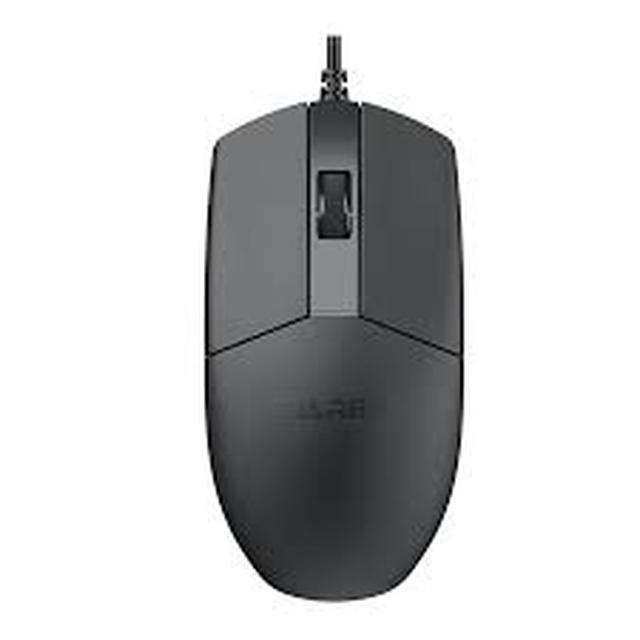mouse: (167, 54, 503, 619)
